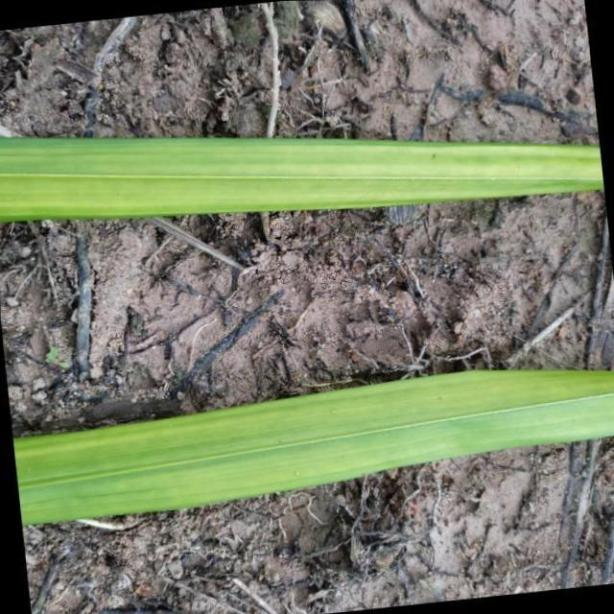nitrogen: (0, 369, 614, 526), (0, 133, 614, 222)
